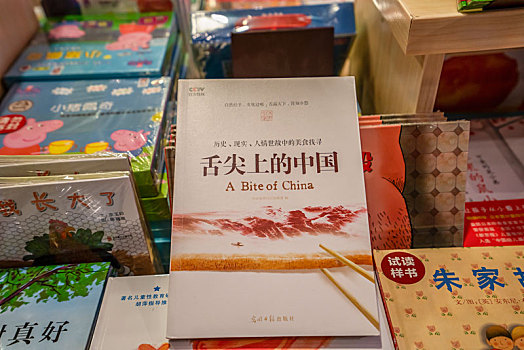book: (164, 79, 385, 339)
